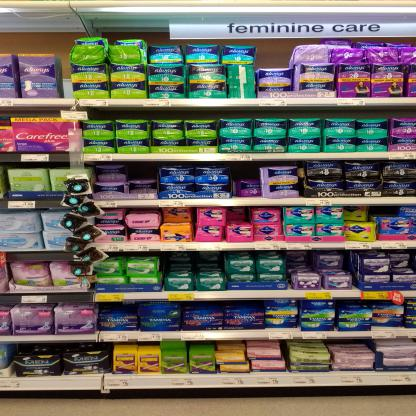Void: (91, 108, 413, 119), (166, 252, 220, 273), (258, 47, 291, 69), (190, 302, 264, 310), (50, 294, 89, 308), (4, 162, 71, 170), (10, 108, 58, 119), (232, 163, 258, 180), (16, 254, 70, 262), (133, 162, 155, 178), (229, 210, 246, 224), (105, 303, 131, 312), (371, 208, 396, 217)
